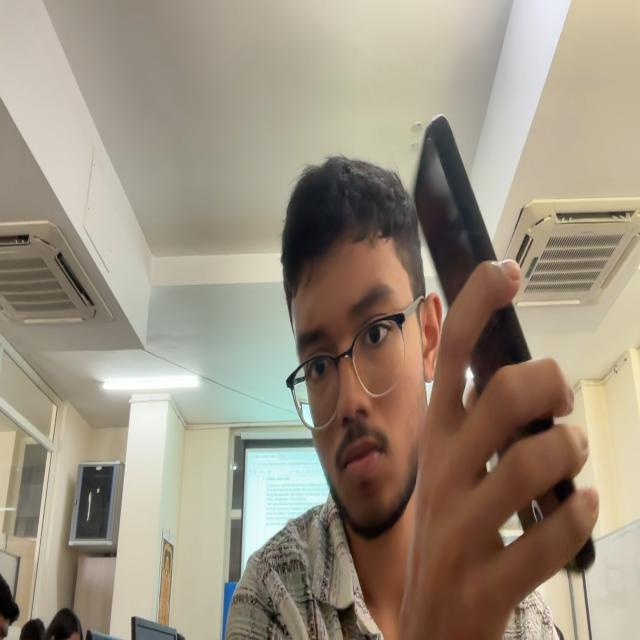Useful: (414, 115, 497, 306), (468, 303, 531, 395), (517, 479, 575, 530), (498, 417, 553, 459), (565, 537, 595, 572)
